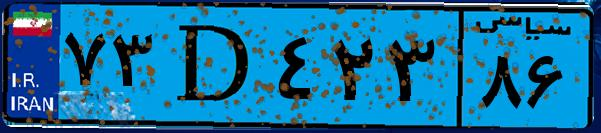2: (330, 28, 385, 110)
3: (385, 28, 445, 110), (110, 28, 158, 98)
4: (270, 28, 330, 110)
6: (525, 38, 570, 115)
7: (57, 26, 110, 100)
8: (475, 38, 525, 113)
D: (158, 12, 270, 120)
